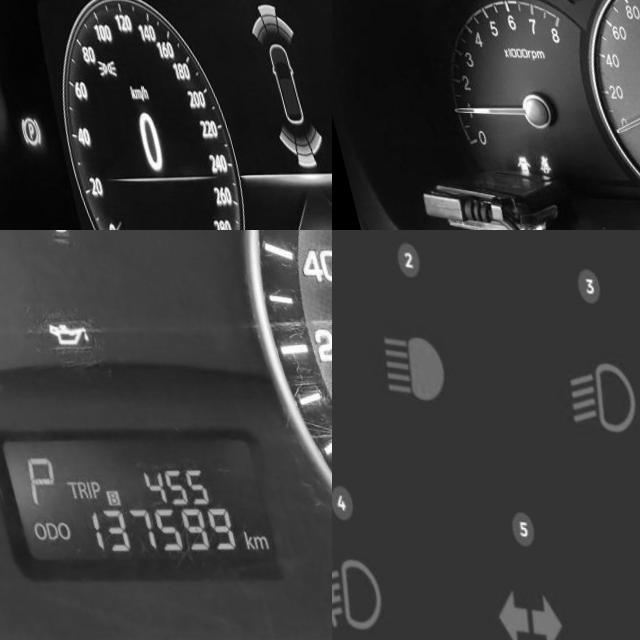Doors: (496, 155, 512, 174)
FrontFogLight: (332, 551, 369, 636)
Low beam: (544, 358, 633, 436)
SideLamp: (79, 58, 101, 77)
